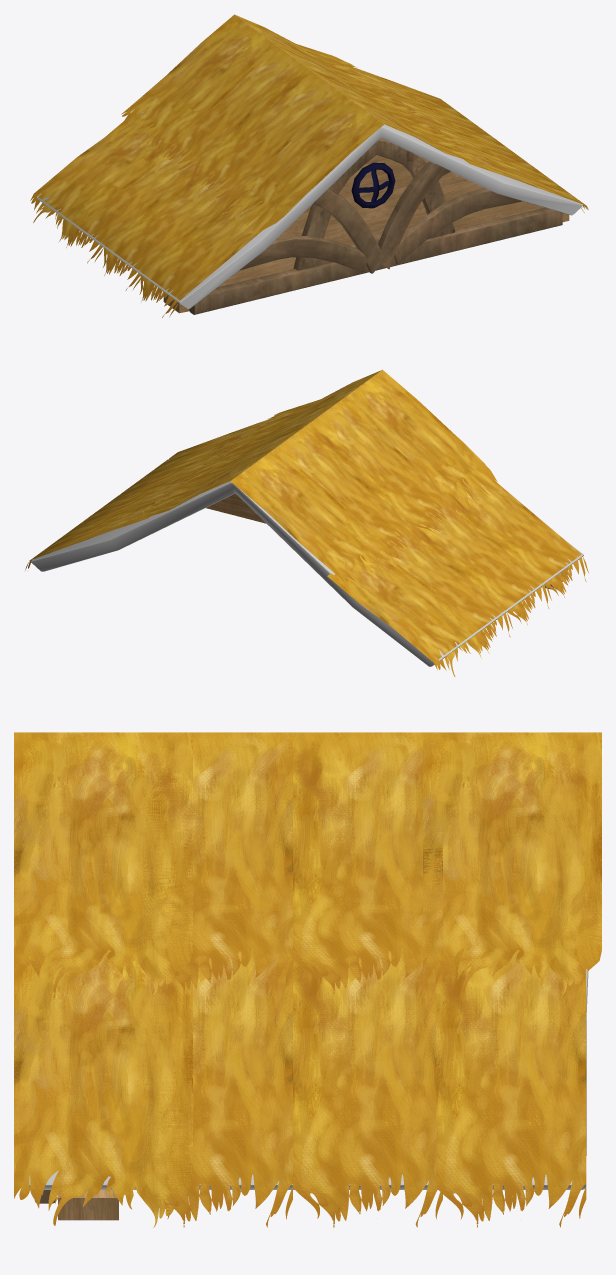
Rendered from SM_roof_extension_04.fbx.
3 renders of one model, top to bottom at view 1: azimuth 30°, elevation 25°; view 2: azimuth 150°, elevation 25°; view 3: azimuth 270°, elevation 25°, orthographic. The views are drawn at different scales.
Parts seen in each view (by area): view 1: roof_extension_04; view 2: roof_extension_04; view 3: roof_extension_04.
Boxes of the visible parts, box(x1,y1,x2,y2) form: roof_extension_04: box(30, 14, 588, 317); roof_extension_04: box(25, 369, 588, 676); roof_extension_04: box(14, 732, 601, 1227).
Bounding box in the file's own units: 390 × 141 × 232.
